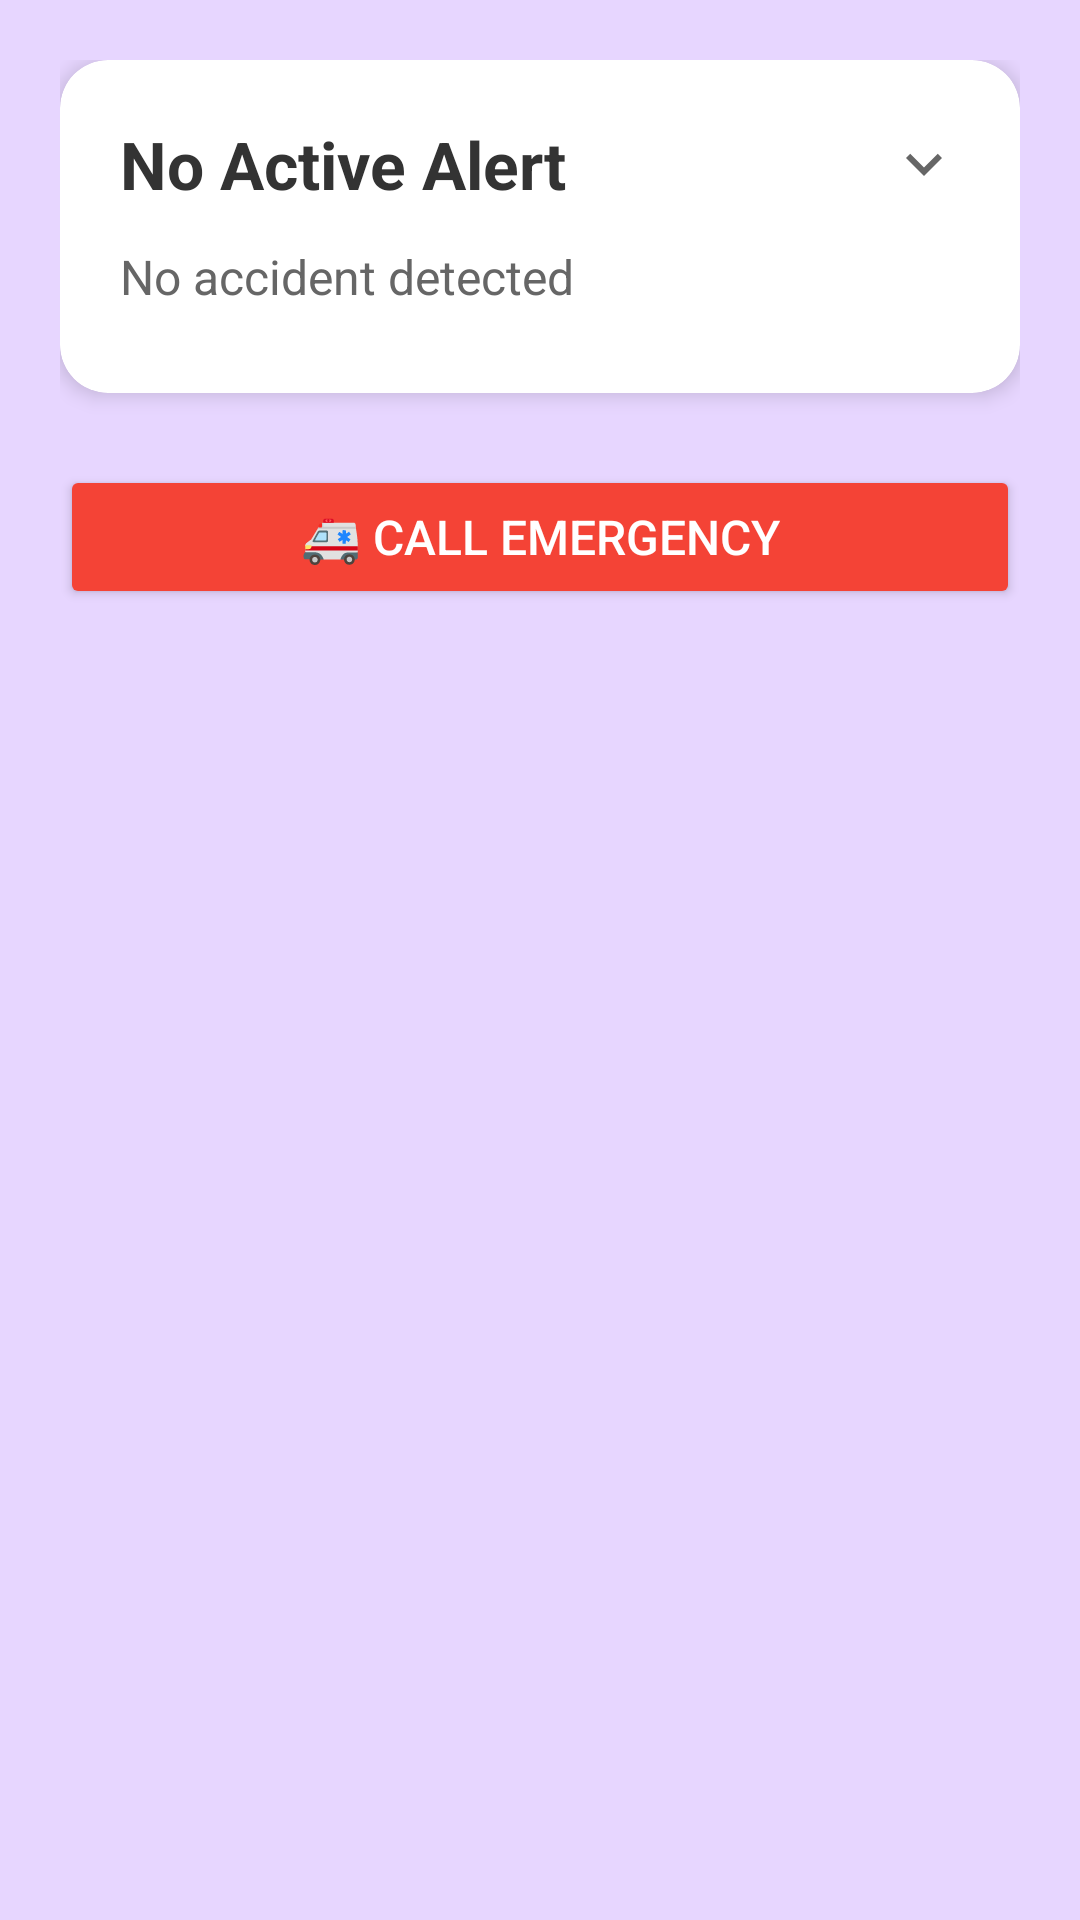

Screen size 1080 × 1920. Icon name, then its box in pixels as [x1=x1, y1=y1, x2=x2, y2=y2]:
expand more: [x1=906, y1=154, x2=942, y2=176]
